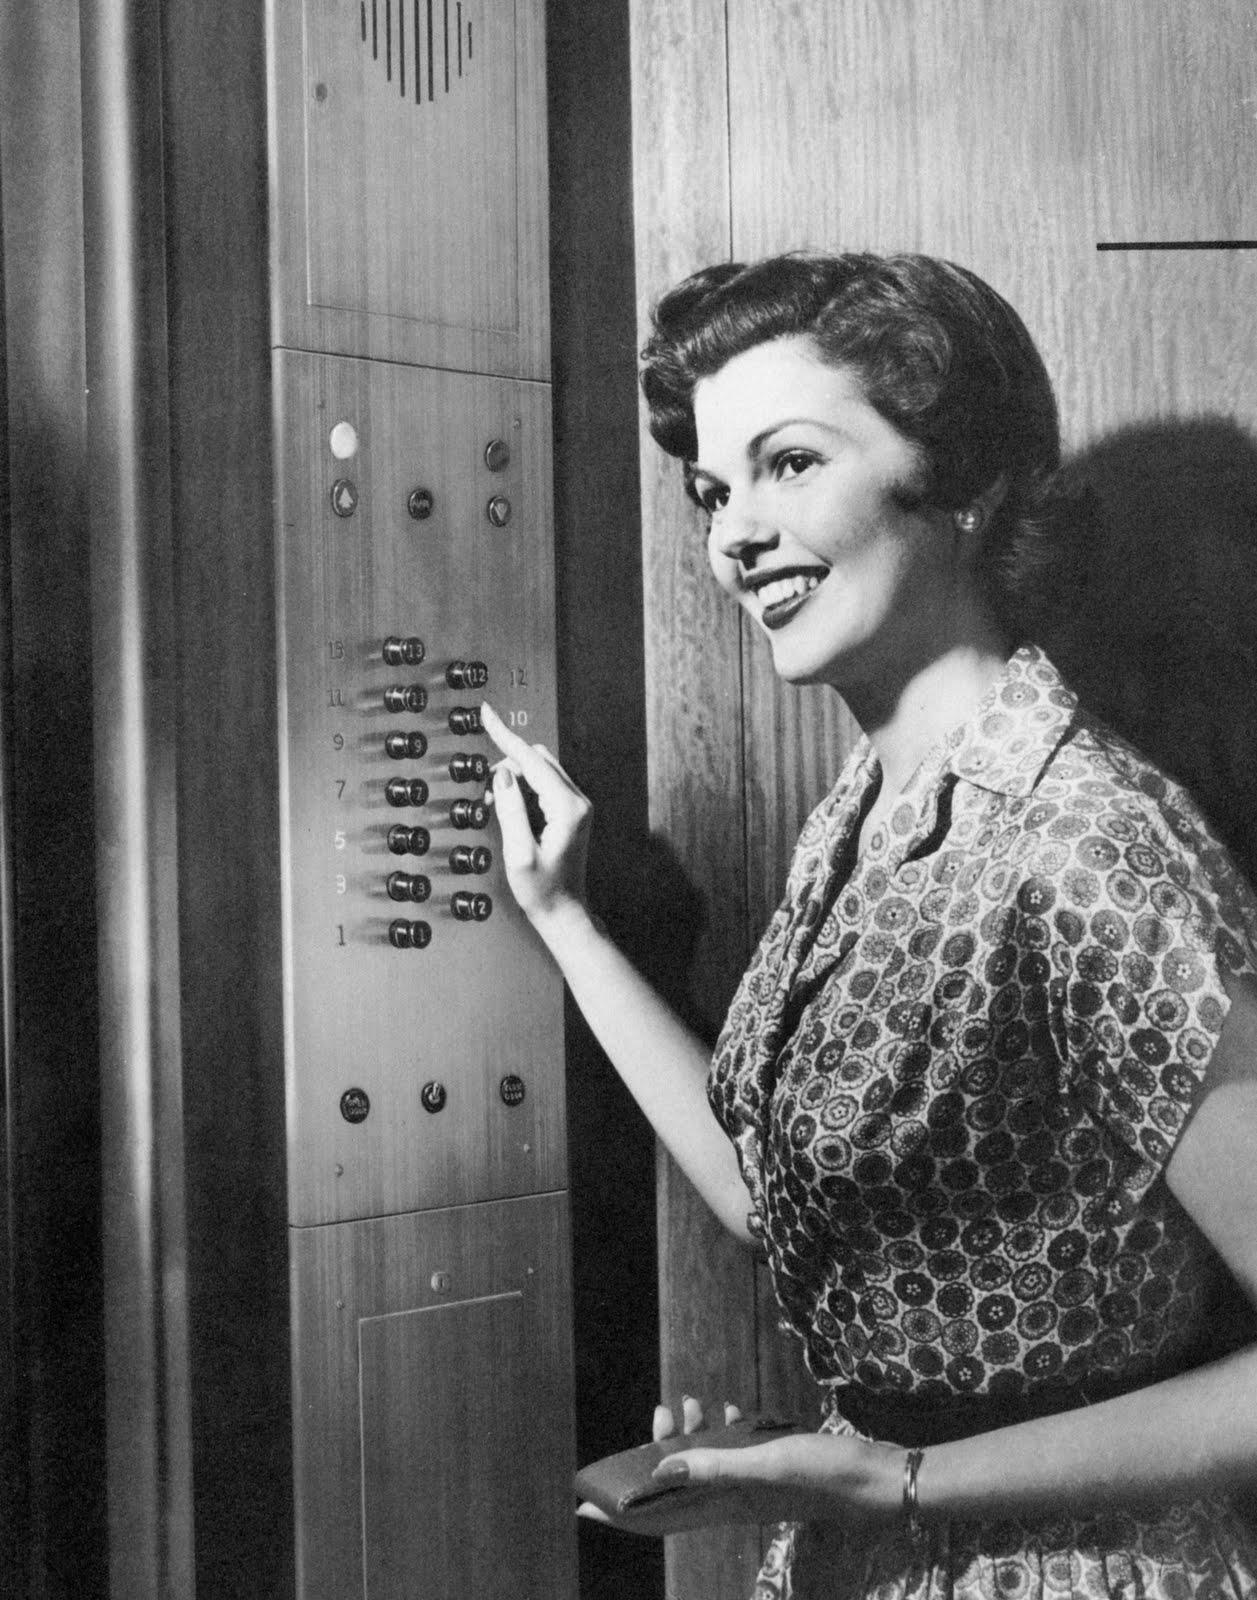1: (384, 913, 432, 953), (444, 700, 492, 740)
11: (382, 677, 430, 717)
12: (442, 655, 490, 695)
13: (380, 630, 429, 670)
2: (445, 887, 493, 927)
3: (383, 868, 431, 906)
4: (444, 840, 492, 881)
5: (383, 819, 431, 858)
6: (445, 794, 493, 834)
7: (382, 771, 430, 810)
8: (444, 745, 492, 786)
9: (380, 723, 429, 764)
bt_switch: (414, 1077, 451, 1117)
down: (480, 492, 519, 529)
empty: (478, 432, 516, 479), (325, 418, 361, 465)
text_blur: (493, 1070, 530, 1110), (338, 1084, 373, 1125)
unknown: (403, 482, 439, 529)
up: (326, 474, 364, 521)
